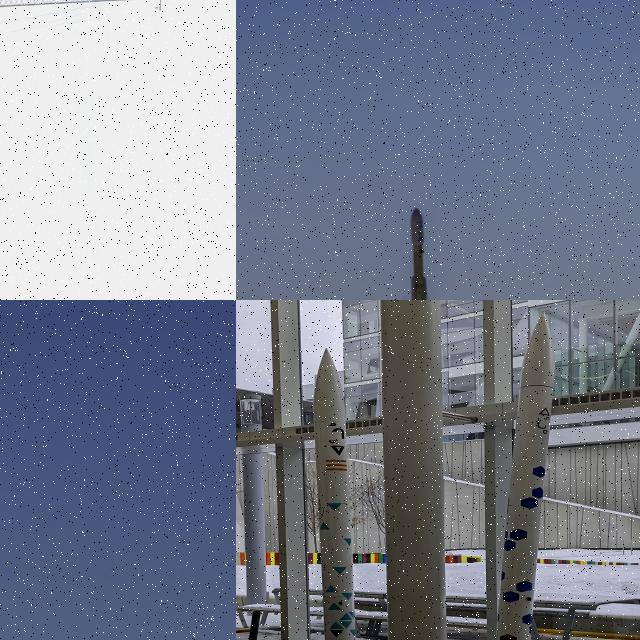Rocket: (495, 311, 555, 640), (313, 348, 356, 640), (410, 207, 427, 300)
